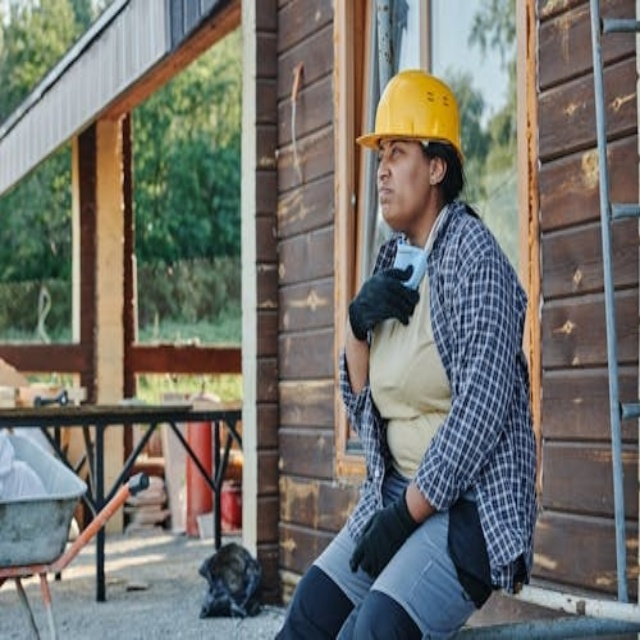Guantes: (340, 477, 421, 584), (346, 258, 422, 348)
Sin_gafas: (372, 138, 412, 169)
Sin_mascara: (374, 177, 403, 208)
